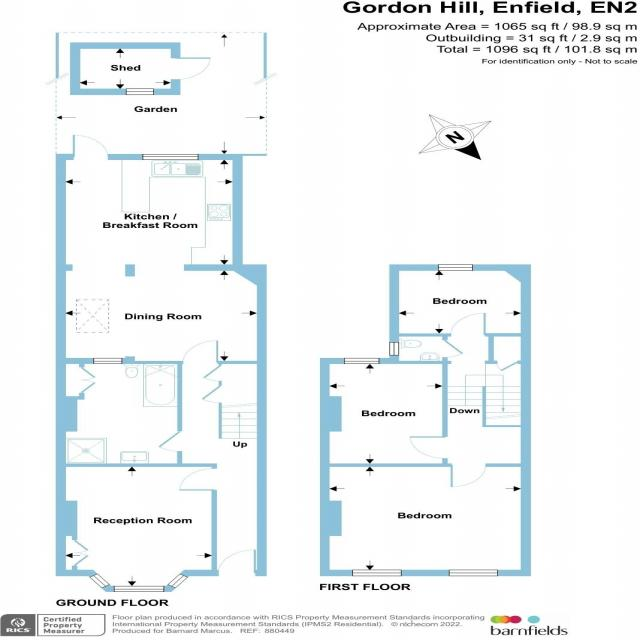DOOR: (217, 548, 257, 577), (407, 435, 449, 461), (449, 462, 488, 489), (72, 134, 110, 161), (182, 339, 220, 365), (177, 467, 218, 491), (450, 312, 487, 337), (156, 430, 183, 453), (440, 339, 465, 358), (495, 360, 519, 373)
ROOM: (55, 134, 267, 364), (319, 463, 532, 576), (55, 463, 217, 592), (319, 357, 448, 467), (388, 264, 531, 337)
WINDOW: (141, 153, 200, 161), (351, 569, 403, 577), (448, 569, 499, 577), (166, 573, 189, 589), (88, 573, 111, 589), (113, 585, 165, 592), (343, 357, 380, 364), (437, 264, 473, 271), (93, 357, 123, 365), (389, 342, 400, 356)
